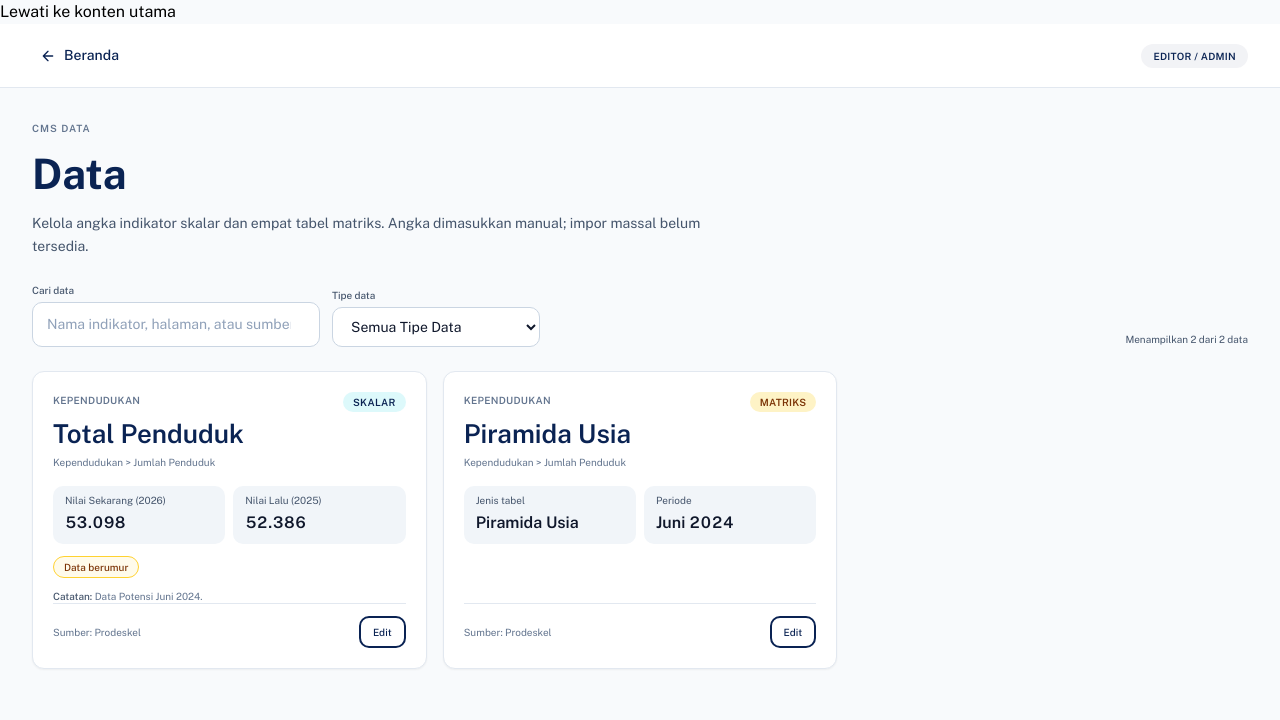
DataManagementView.vue › opens the scalar edit dialog with a labelled form
Click the button "Edit" below "Data Potensi Juni 2024.": (382, 632) 359,616 -> 406,648
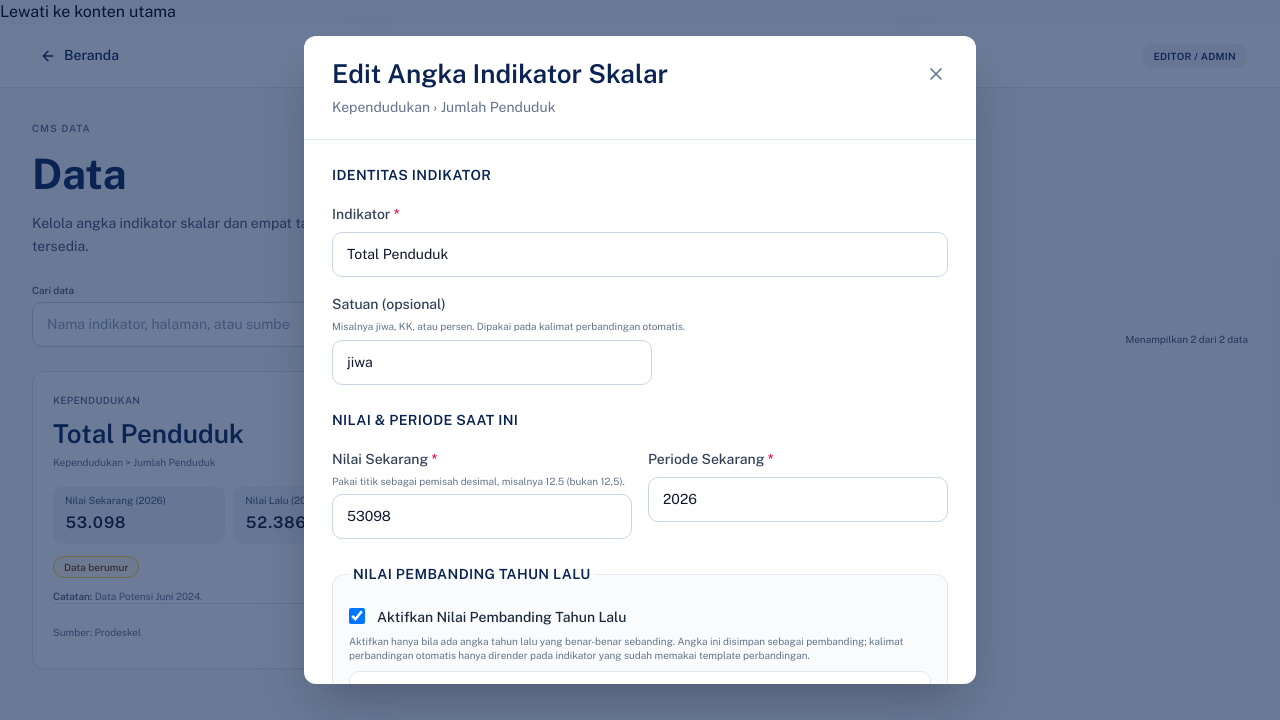
Expected: the dialog is shown, 304,36 -> 976,684
Expected: the dialog shows "Edit Angka Indikator Skalar", 332,58 -> 668,89
Expected: the field with id "indicator-label" is shown, 332,232 -> 948,277
